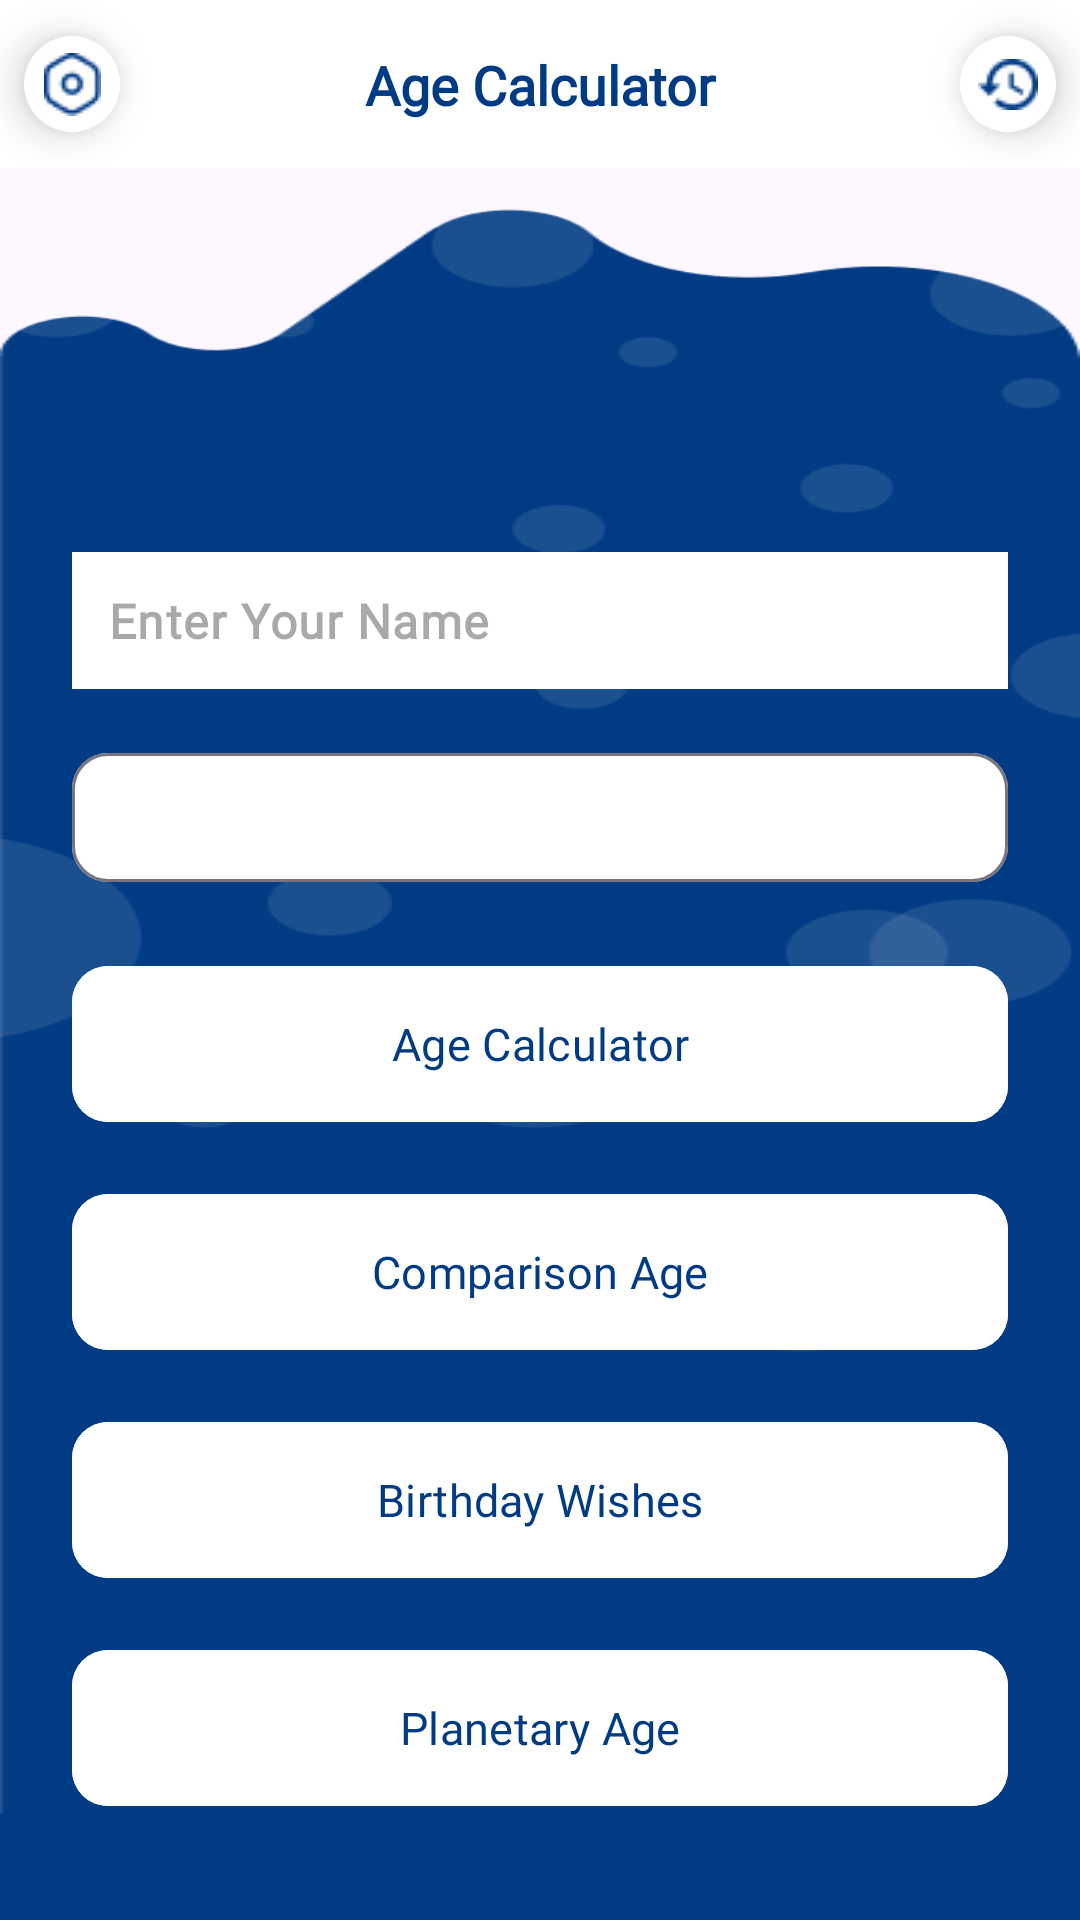

Point at icon controls on the screen. Image size 1080*1920, points as (x=x, y=y).
history: (x=1008, y=84)
settings: (x=72, y=84)
